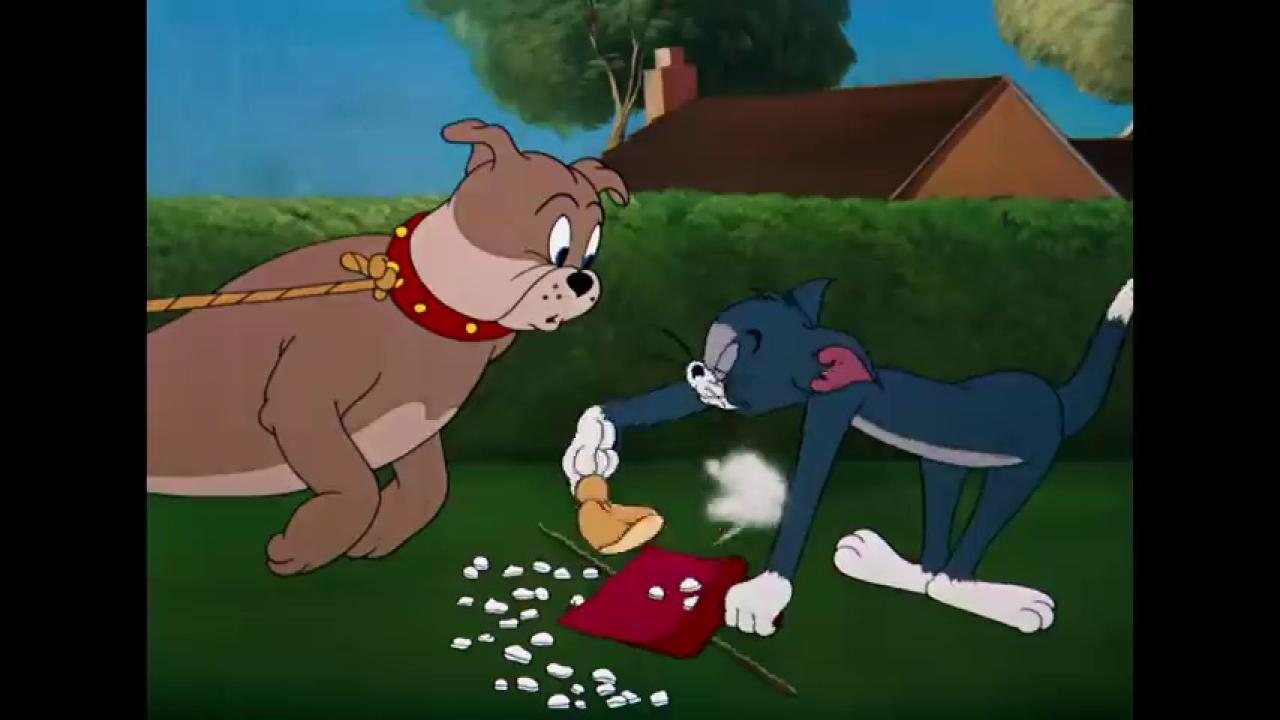Tom: (560, 267, 1133, 639)
